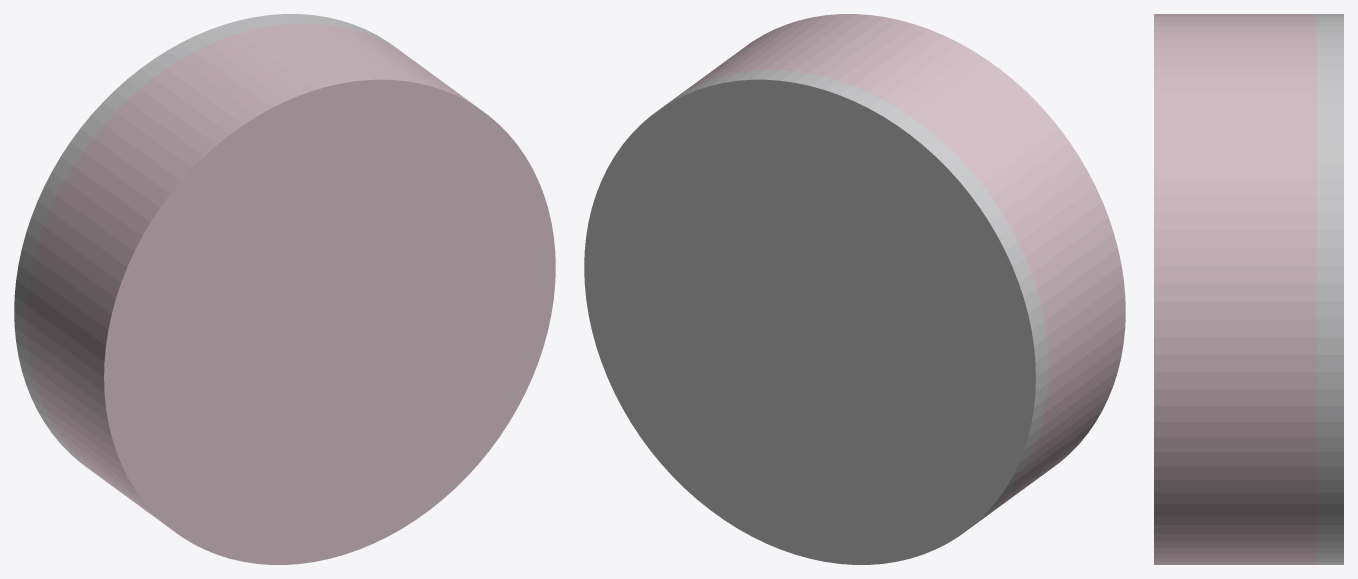
Rendered from cake_4in_layers1.glb.
The picture shows the model from 3 angles, left to right: view 1: azimuth 30°, elevation 25°; view 2: azimuth 150°, elevation 25°; view 3: azimuth 270°, elevation 25°; orthographic projection. The views are drawn at different scales.
Visible parts, largest first — view 1: geometry_0, geometry_1; view 2: geometry_1, geometry_0; view 3: geometry_0, geometry_1.
Part boxes in pixels (x1,y1,x2,y2): geometry_0: (27,23,555,564); geometry_1: (14,14,399,470); geometry_1: (584,70,1048,564); geometry_0: (676,14,1125,518); geometry_0: (1154,14,1316,564); geometry_1: (1316,14,1343,564).
Bounding box in the file's own units: 0.1016 × 0.1016 × 0.035.
